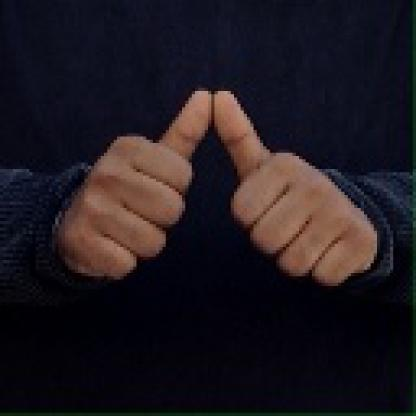A: (69, 86, 364, 282)
